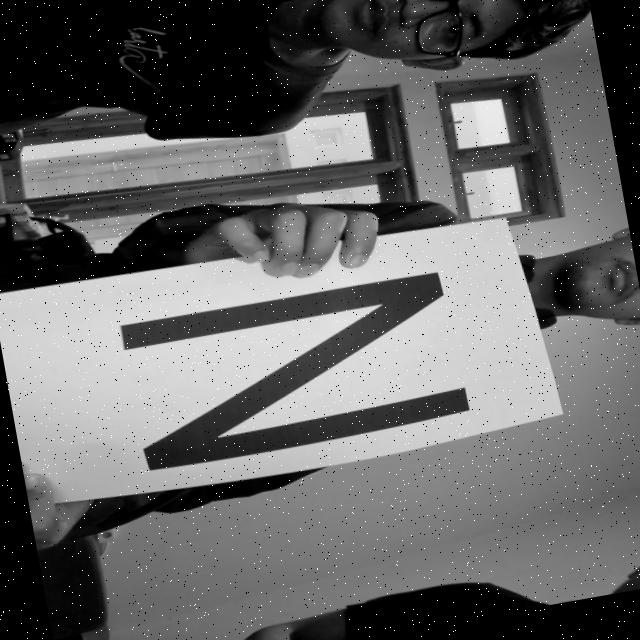n: (88, 249, 498, 512)
